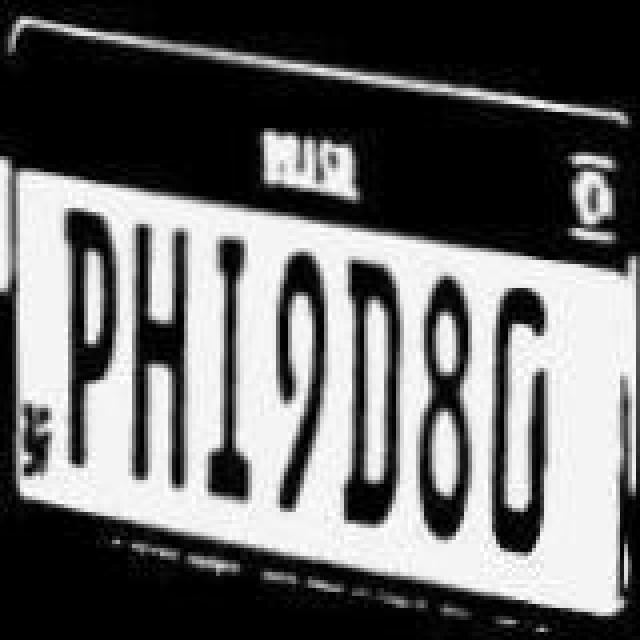8: (414, 274, 482, 542)
9: (262, 248, 338, 516)
D: (482, 284, 566, 564), (334, 252, 410, 528)
H: (120, 218, 204, 490)
I: (196, 236, 264, 508)
P: (50, 198, 122, 466)
